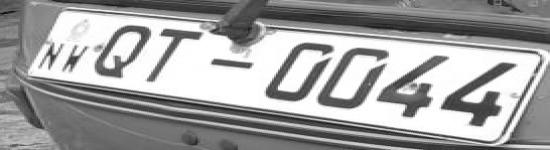-: (195, 53, 269, 77)
0: (301, 39, 409, 117), (241, 35, 348, 110)
4: (418, 53, 538, 137), (358, 47, 474, 127)
N: (27, 39, 72, 74)
Q: (81, 16, 162, 85)
T: (127, 24, 212, 90)
W: (53, 43, 95, 76)
